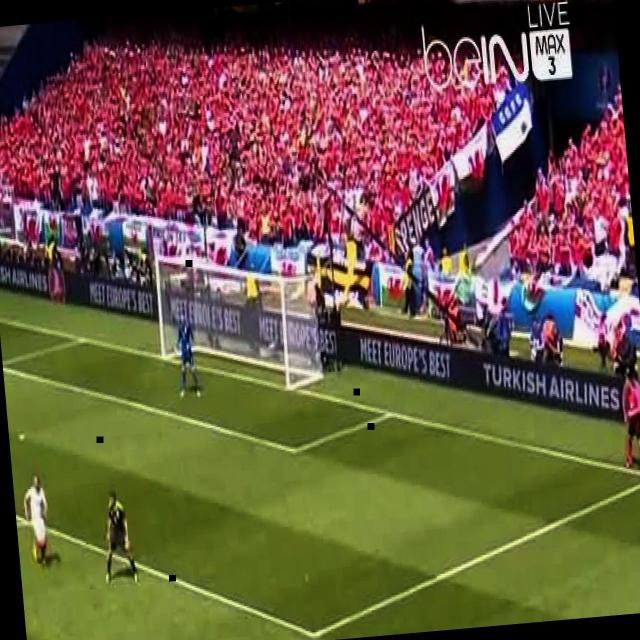player-white: (98, 492, 138, 585), (21, 474, 53, 566), (171, 313, 201, 398), (617, 364, 640, 474)
